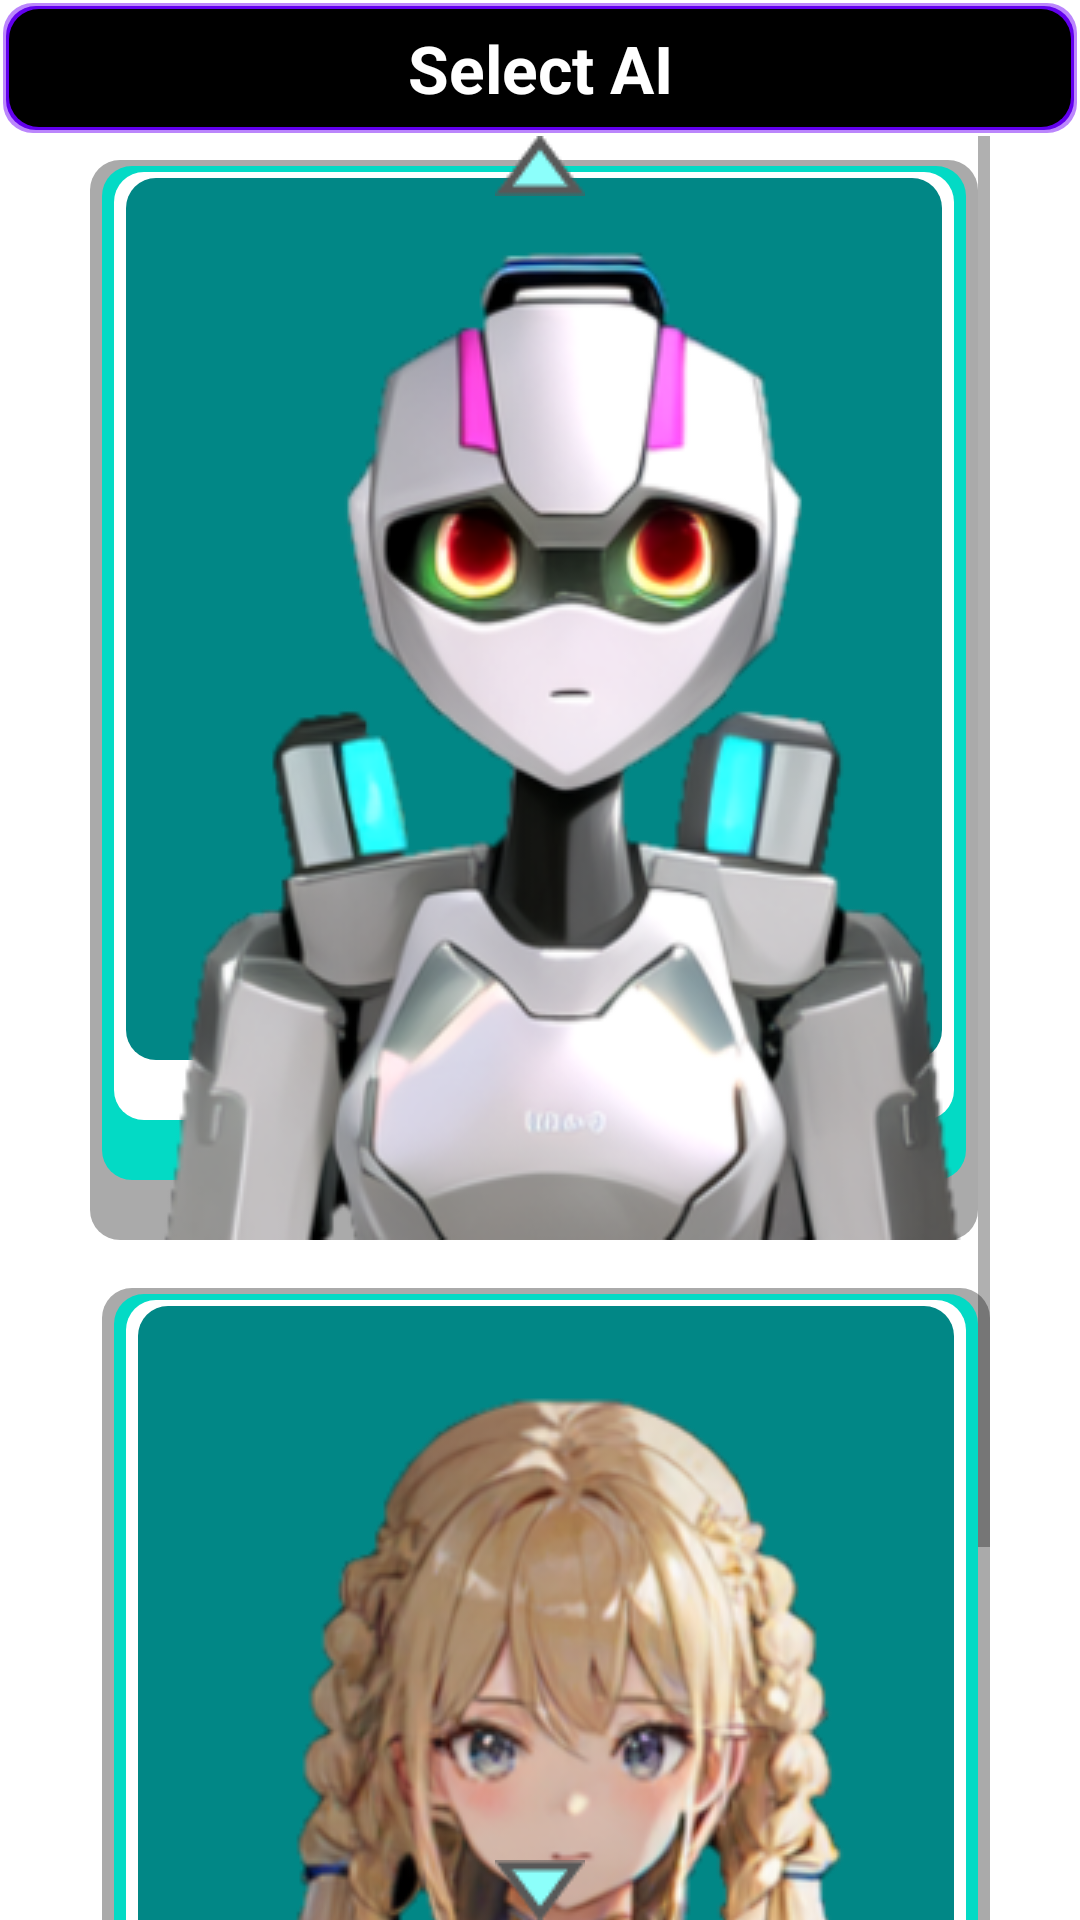

Where to tap for icons on this 1080×1920 app screen, as [x,y]:
Down: [540,1890]
Up: [540,166]
